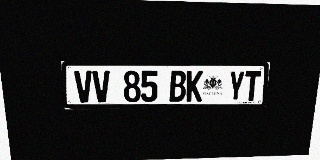5: (141, 71, 158, 102)
8: (123, 71, 141, 102)
B: (169, 71, 186, 102)
K: (186, 71, 203, 102)
T: (243, 71, 261, 101)
V: (74, 71, 93, 103), (92, 71, 111, 102)
Y: (227, 71, 245, 101)
